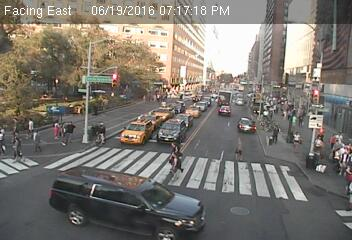neg: (90, 98, 103, 115), (197, 79, 209, 95), (221, 72, 233, 88), (288, 113, 300, 128), (120, 80, 131, 95), (162, 83, 172, 95)
pos: (229, 135, 250, 164), (91, 118, 112, 146), (164, 153, 184, 180), (53, 122, 73, 148), (28, 128, 46, 153), (7, 138, 25, 163), (337, 150, 351, 178), (61, 120, 78, 143), (48, 117, 65, 140), (289, 129, 305, 151), (267, 122, 283, 144), (23, 116, 38, 136), (332, 142, 347, 161), (341, 163, 351, 188), (328, 132, 340, 148), (342, 181, 351, 201), (314, 136, 324, 150), (174, 144, 183, 156), (13, 127, 21, 138), (169, 142, 177, 152), (337, 129, 344, 139)
